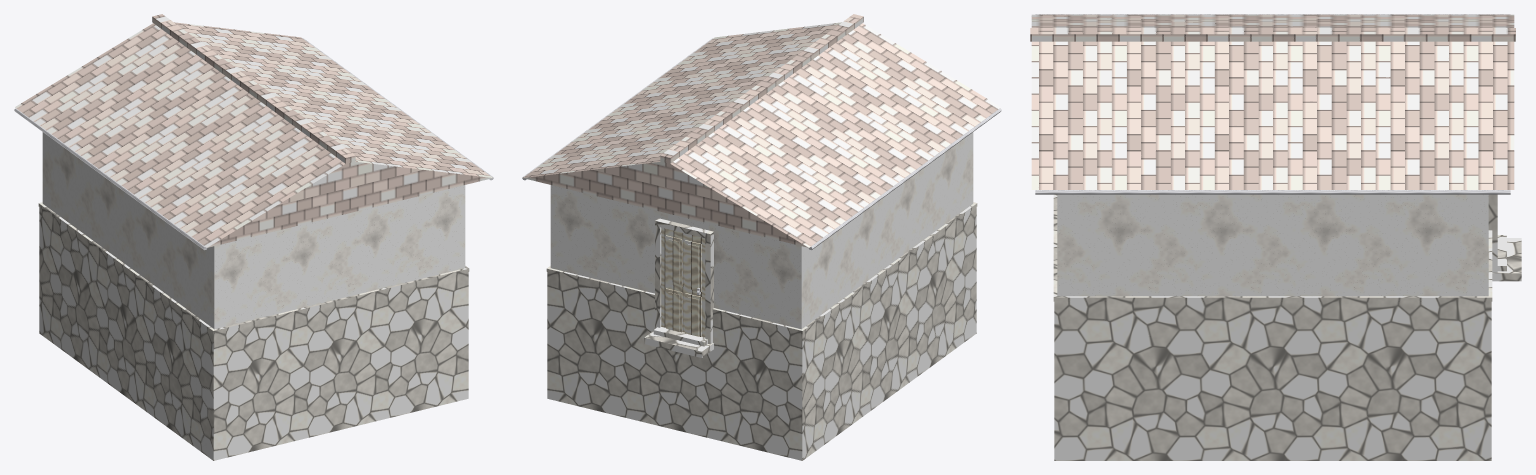
The picture shows the model from 3 angles, left to right: view 1: azimuth 30°, elevation 25°; view 2: azimuth 150°, elevation 25°; view 3: azimuth 270°, elevation 25°; orthographic projection. The views are drawn at different scales.
Parts seen in each view (by area): view 1: b1088806802; view 2: b1088806802; view 3: b1088806802.
Part boxes in pixels (left/top/right/bottom): b1088806802: left=14, top=14, right=493, bottom=460; b1088806802: left=522, top=14, right=1001, bottom=460; b1088806802: left=1030, top=14, right=1521, bottom=460.
Bounding box in the file's own units: 5.74 × 5.29 × 6.7.
Materials: 11 (11 with a texture image).
